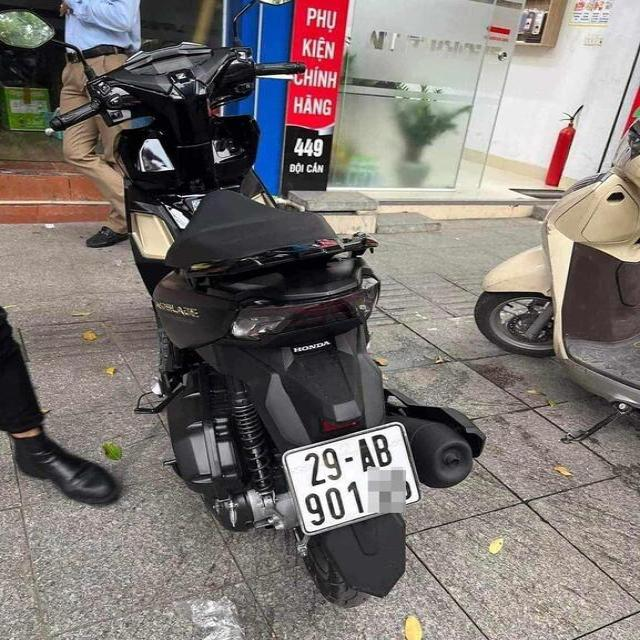motorcycle: (0, 1, 490, 610), (477, 120, 640, 424)
plate: (278, 414, 417, 541), (283, 75, 343, 123)
